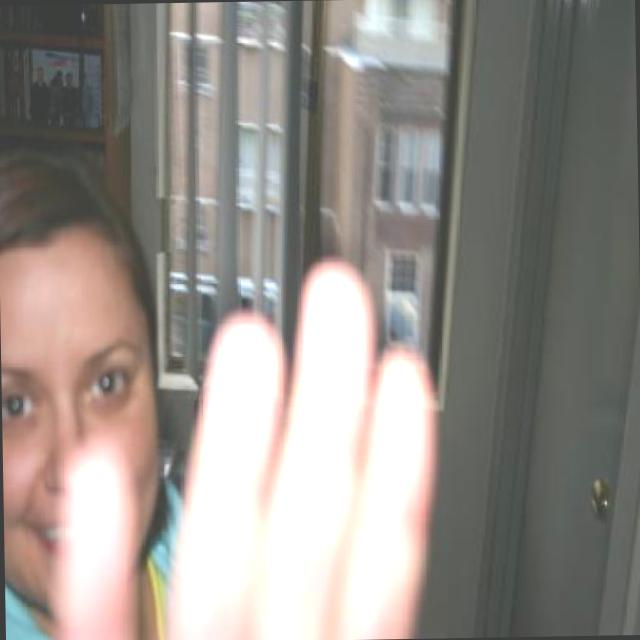Person: (0, 146, 438, 640)
